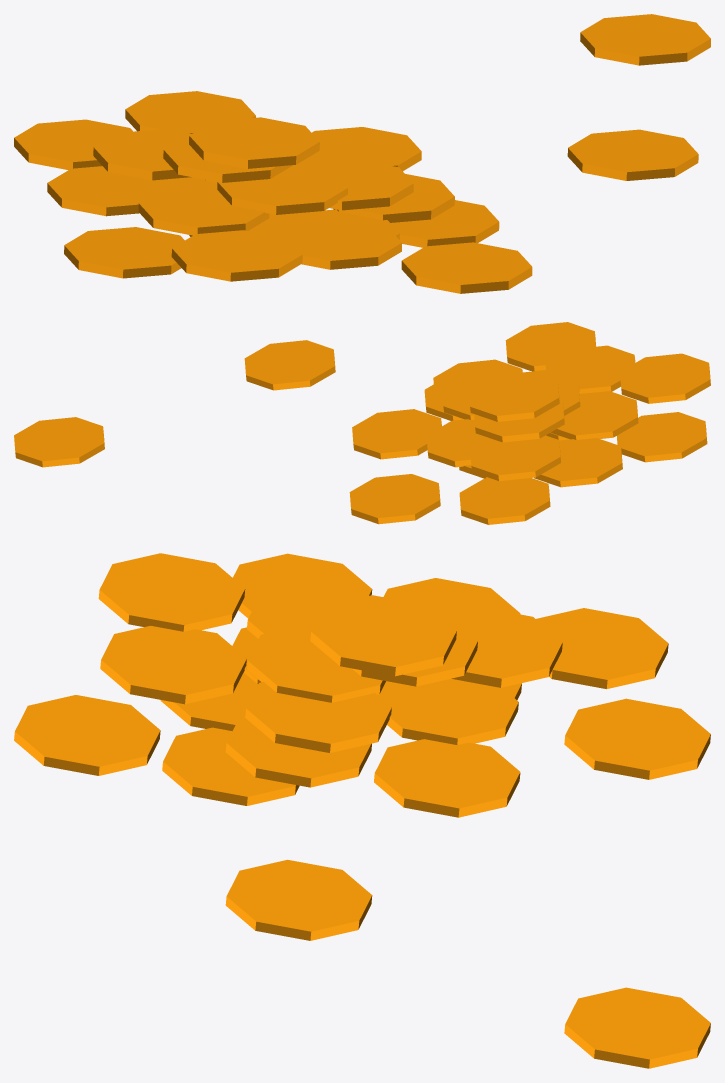
Rendered from coins.glb.
The picture shows the model from 3 angles, top to bottom: view 1: azimuth 30°, elevation 25°; view 2: azimuth 150°, elevation 25°; view 3: azimuth 270°, elevation 25°; orthographic projection. The views are drawn at different scales.
Parts seen in each view (by area): view 1: Node; view 2: Node; view 3: Node.
Boxes of the visible parts, left/top/right/bottom form: Node: left=14, top=14, right=710, bottom=293; Node: left=14, top=322, right=710, bottom=524; Node: left=14, top=553, right=710, bottom=1068.
Size of the model in its own units: 0.4792 by 0.0722 by 0.3293.
